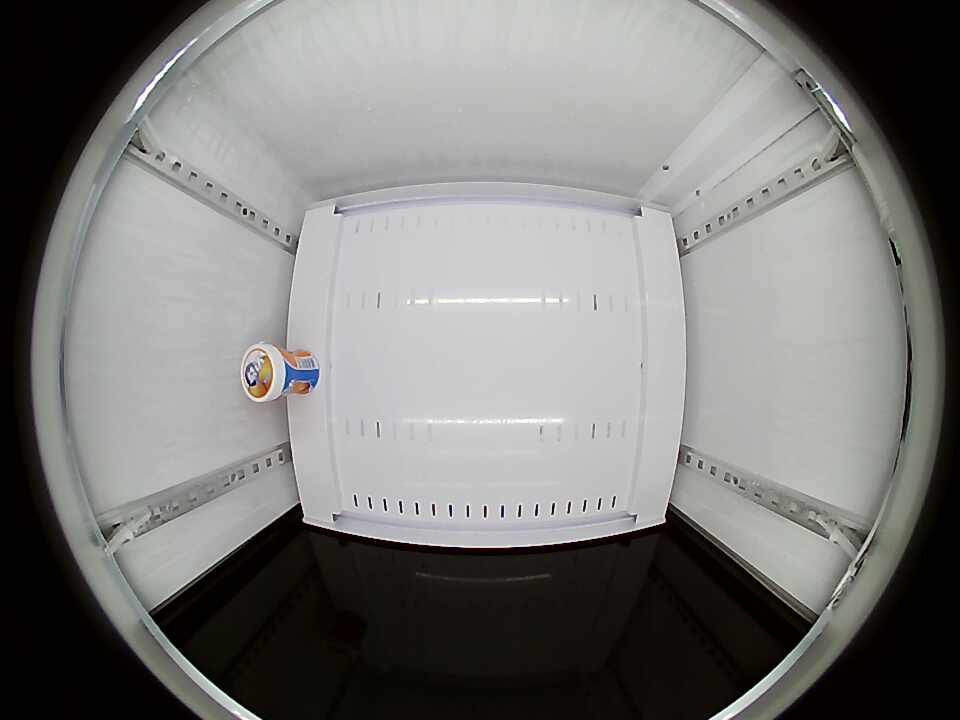yida: (240, 342, 291, 403)
